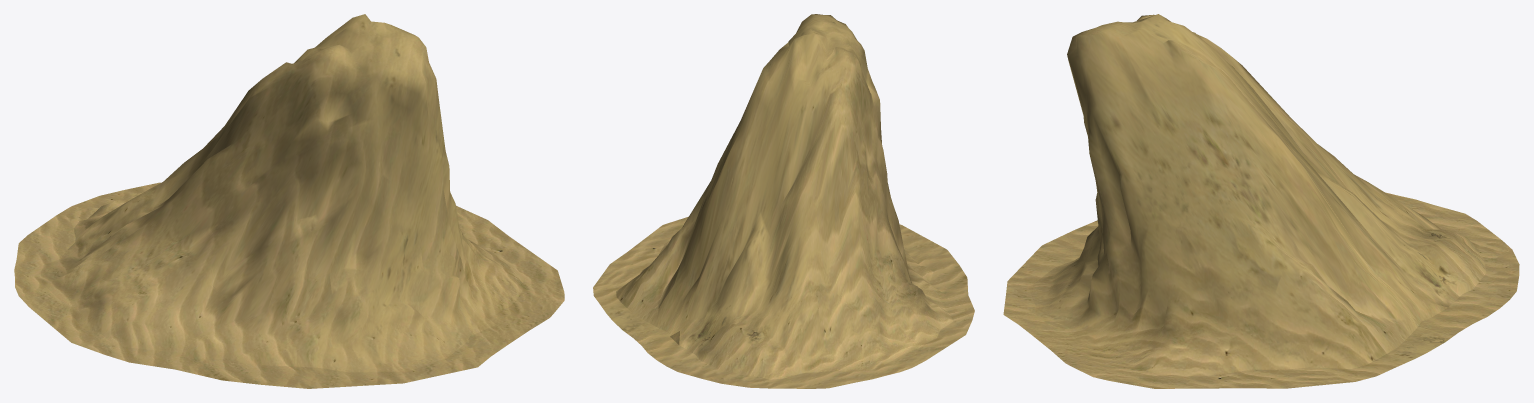
The model's file is build_mountain_A10.FBX.
3 renders of one model, left to right at view 1: azimuth 30°, elevation 25°; view 2: azimuth 150°, elevation 25°; view 3: azimuth 270°, elevation 25°, orthographic. The views are drawn at different scales.
Parts seen in each view (by area): view 1: build_mountain_A10, build_mountain_A10_edge; view 2: build_mountain_A10, build_mountain_A10_edge; view 3: build_mountain_A10, build_mountain_A10_edge.
Boxes of the visible parts, x1,y1,x2,y2 form: build_mountain_A10: (41, 14, 523, 372); build_mountain_A10_edge: (14, 182, 564, 388); build_mountain_A10: (616, 14, 953, 379); build_mountain_A10_edge: (593, 216, 974, 388); build_mountain_A10: (1028, 14, 1486, 376); build_mountain_A10_edge: (1003, 192, 1519, 388).
Size of what is drawn, in the model's own units: 731 by 472 by 780.
